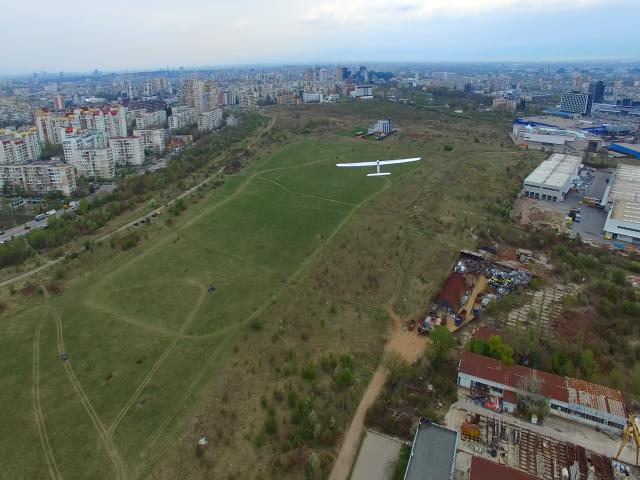plane: (337, 156, 422, 177)
